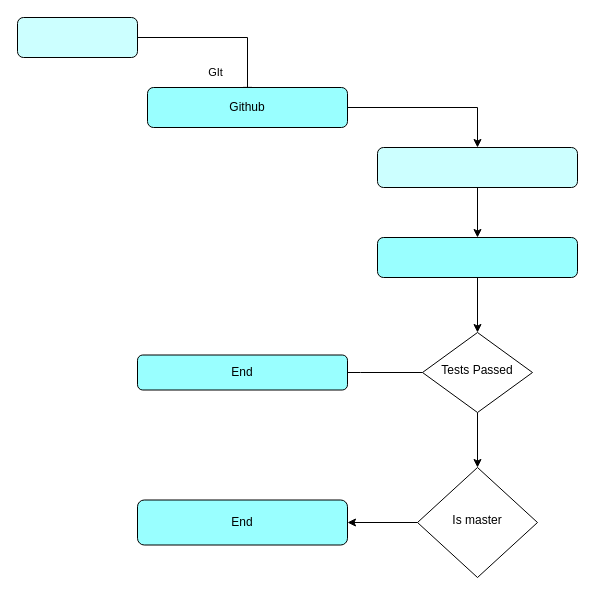
Image size: 595x595. Some labels were removed from this diagram. Each missing label, with the centre of its shape:
"Dev machine [feature branch]" belongs at [77,37].
"Google Build" belongs at [477,167].
"Run tests" belongs at [477,257].
